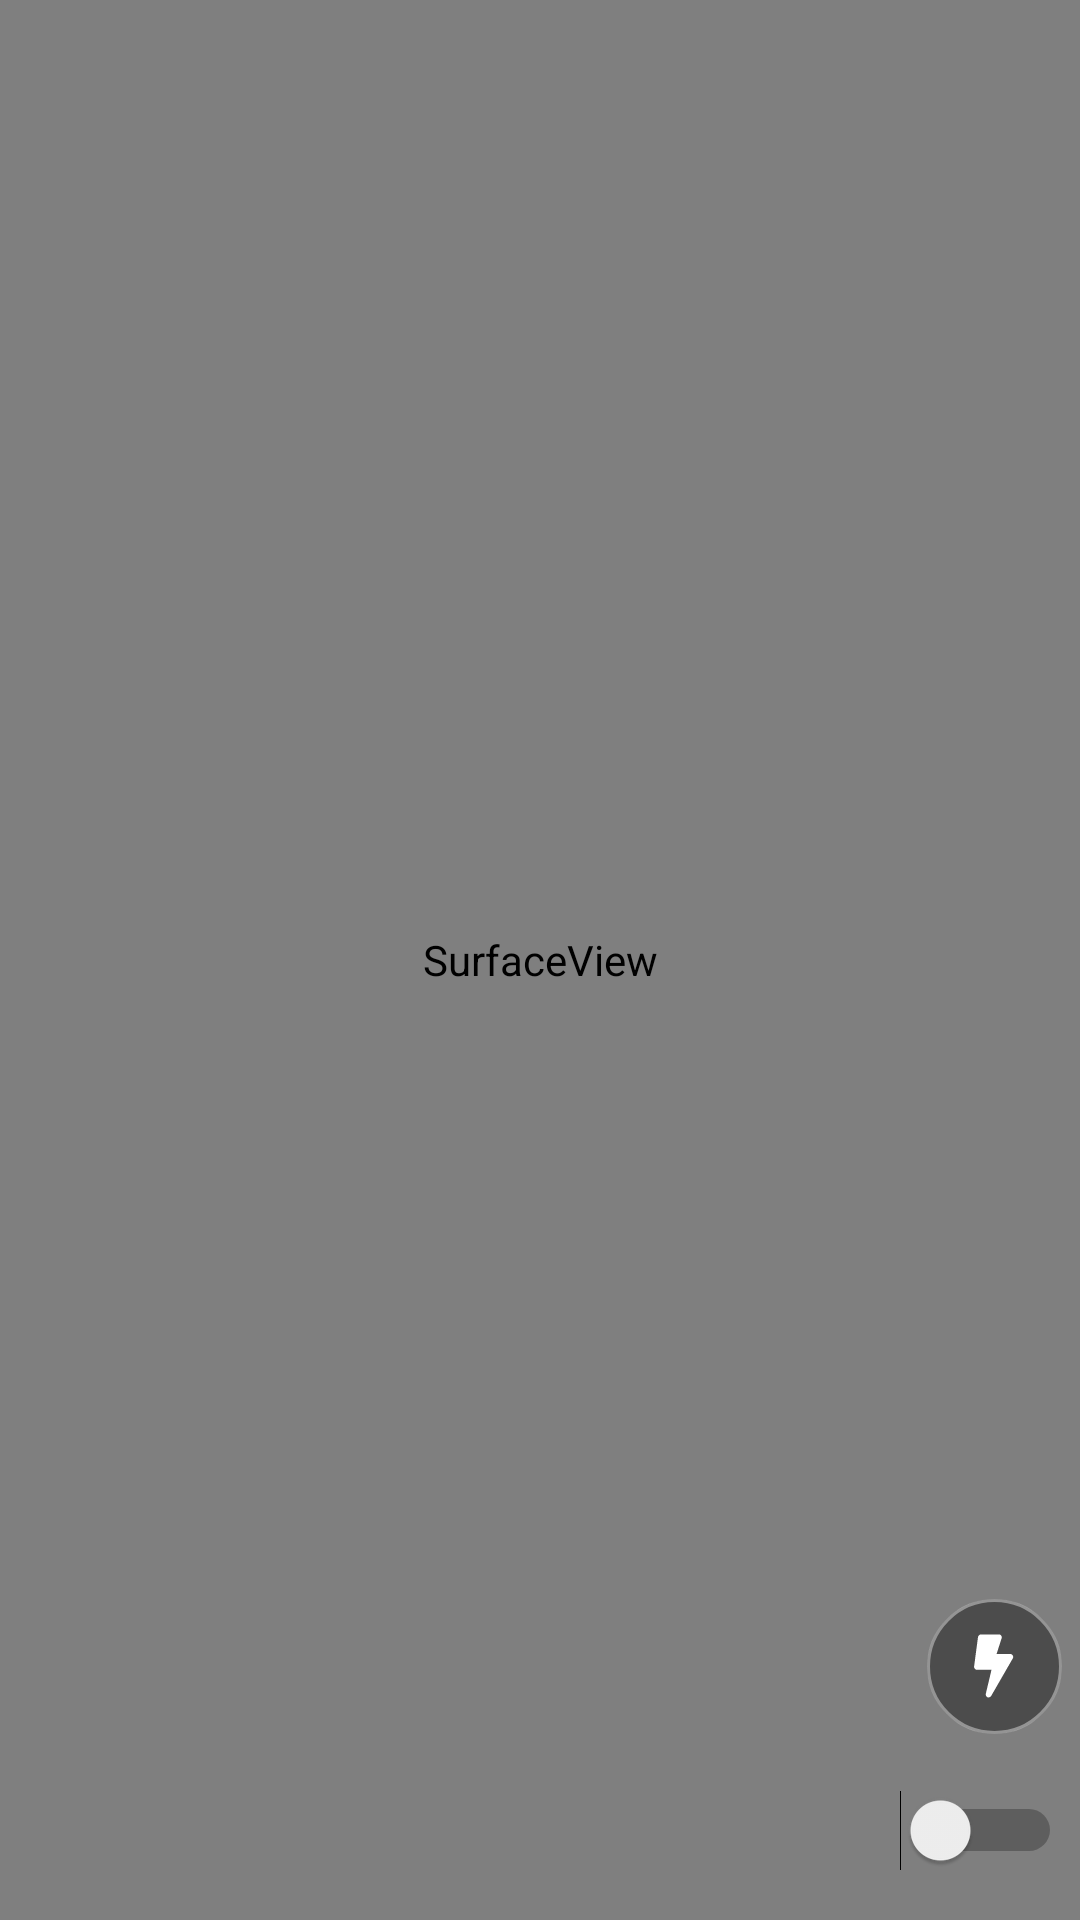

Icon bounding boxes for this 1080px×1920px phone screenshot, format {"x1": x1, "y1": y1, "x2": x2, "y2": y2}:
flash: {"x1": 929, "y1": 1602, "x2": 1059, "y2": 1731}
